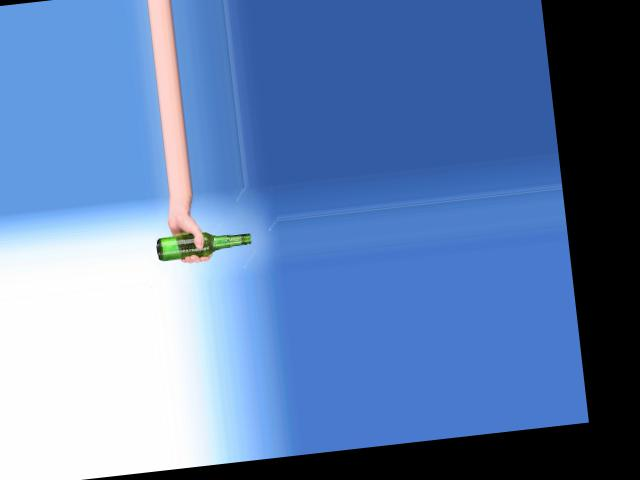beer: (155, 227, 252, 260)
